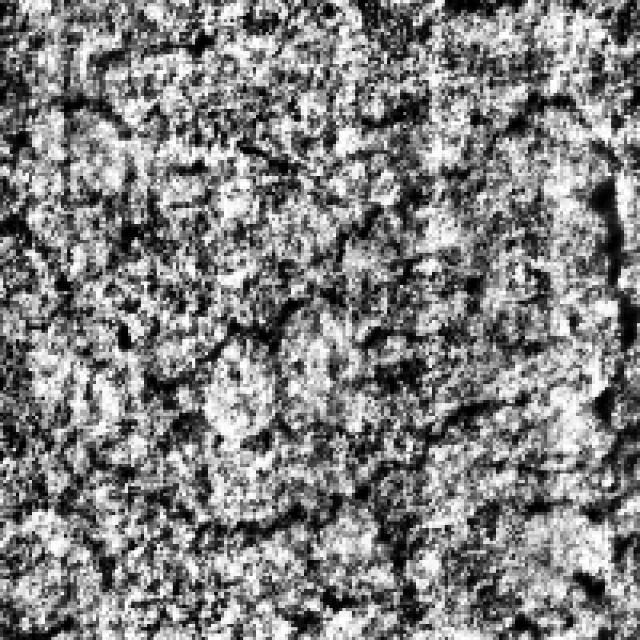Pitted_Surface: (138, 80, 582, 608)
